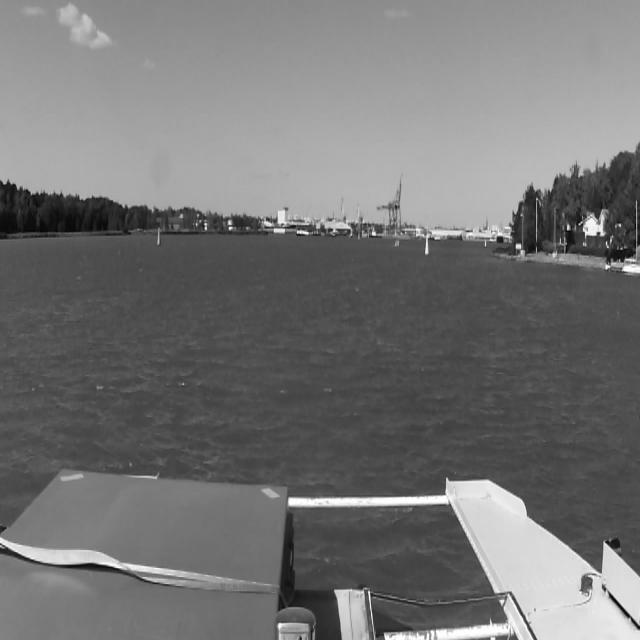buoy: (425, 235, 429, 256), (157, 227, 161, 245), (484, 239, 487, 248)
ship: (621, 201, 640, 276), (394, 239, 400, 248)
